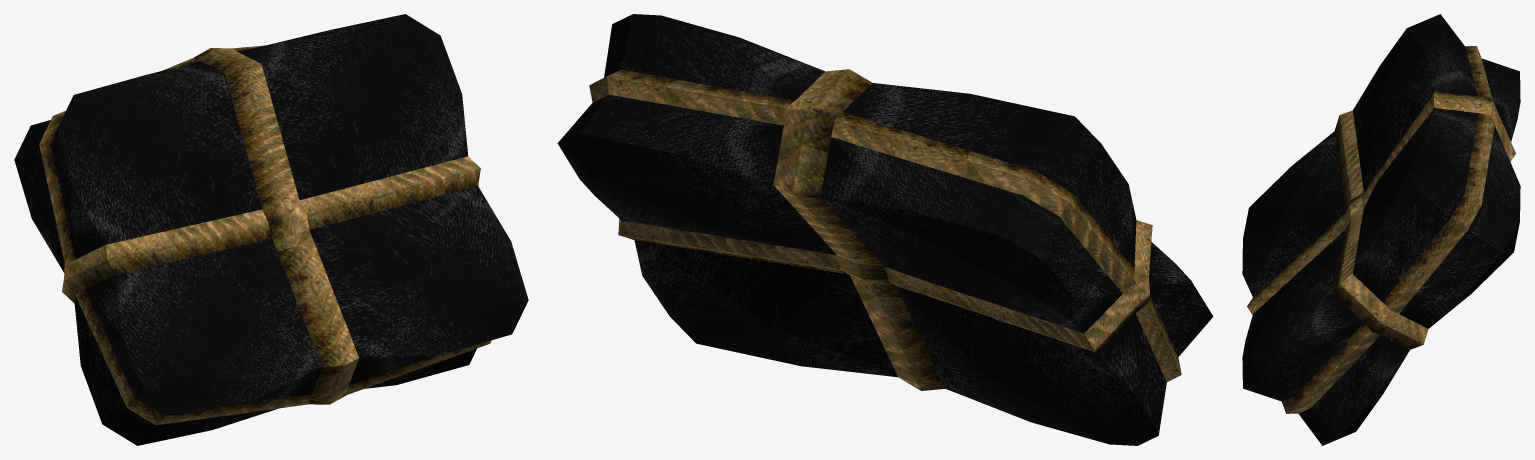
File: KM_ITMI_PACKET_08.glb
3 views of the same model, side by side, from view 1: azimuth 30°, elevation 25°; view 2: azimuth 150°, elevation 25°; view 3: azimuth 270°, elevation 25° (orthographic). The views are drawn at different scales.
Visible parts, largest first — view 1: KM_ITMI_PACKET_08; view 2: KM_ITMI_PACKET_08; view 3: KM_ITMI_PACKET_08.
Boxes of the visible parts, bbox=[...] form: KM_ITMI_PACKET_08: bbox=[14, 14, 528, 445]; KM_ITMI_PACKET_08: bbox=[557, 14, 1213, 445]; KM_ITMI_PACKET_08: bbox=[1242, 14, 1520, 445].
Bounding box in the file's own units: 0.4578 × 0.3232 × 0.2868.
Materials: 2 (2 with a texture image).
